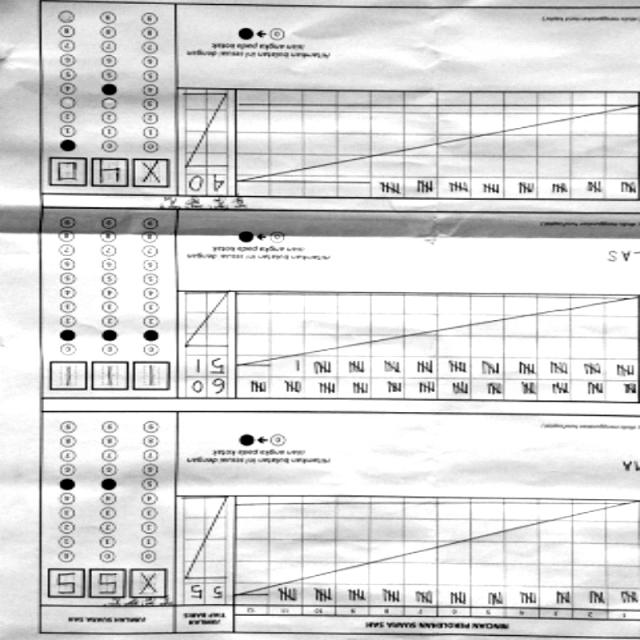Suara: (46, 155, 176, 193), (46, 358, 174, 396), (44, 566, 174, 603)
